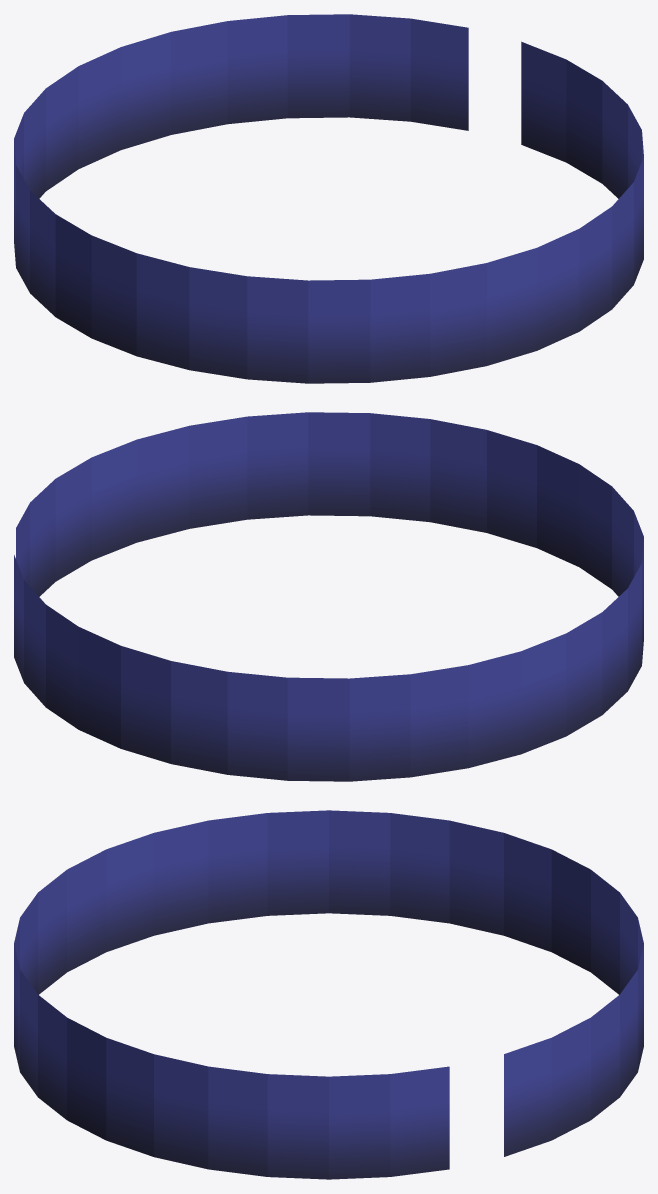
File: Walls01.glb
3 renders of one model, top to bottom at view 1: azimuth 30°, elevation 25°; view 2: azimuth 150°, elevation 25°; view 3: azimuth 270°, elevation 25°, orthographic.
Visible parts, largest first — view 1: Walls01; view 2: Walls01; view 3: Walls01.
Part boxes in pixels (x1,y1,x2,y2): Walls01: (14,14,643,383); Walls01: (14,412,643,781); Walls01: (14,810,643,1179).
Size of what is drawn, in the model's own units: 60 by 10.82 by 60.
1 material, 1 textured.
